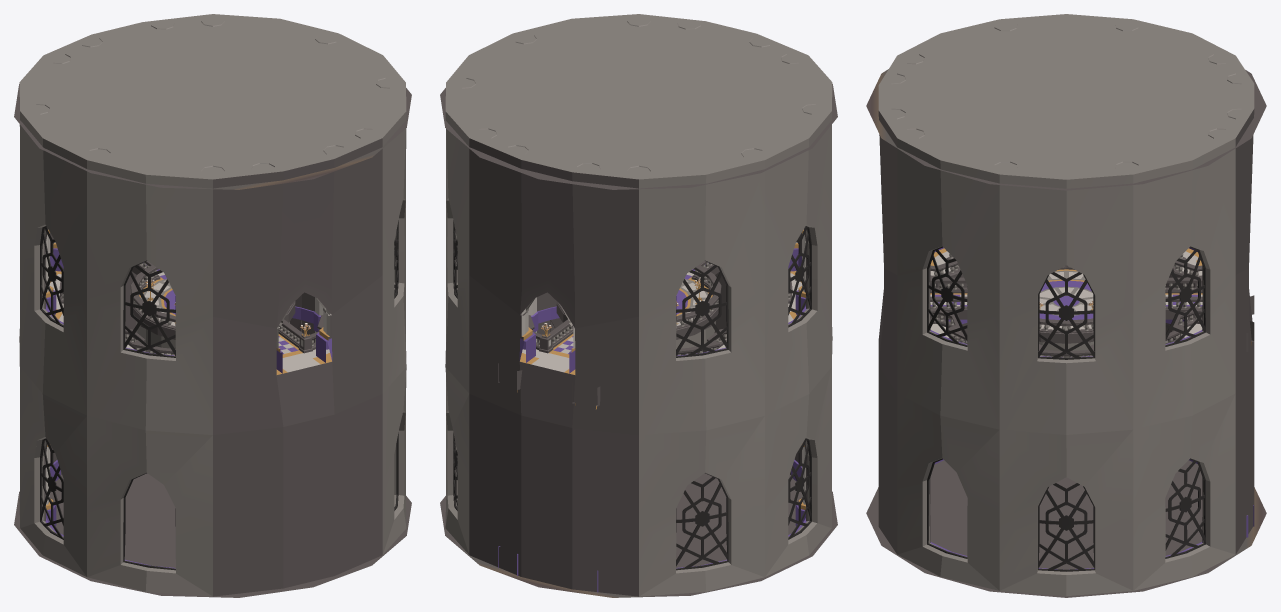
File: harazuelDio.fbx
3 renders of one model, left to right at view 1: azimuth 30°, elevation 25°; view 2: azimuth 150°, elevation 25°; view 3: azimuth 270°, elevation 25°, orthographic.
Visible parts, largest first — view 1: harazuelDio_blocker, harazuelDio_basefloor, harazuelDio_back, harazuelDio_lower, harazuelDio_ground, harazuelDio_main; view 2: harazuelDio_blocker, harazuelDio_lower, harazuelDio_basefloor, harazuelDio_main, harazuelDio_ground, harazuelDio_back; view 3: harazuelDio_blocker, harazuelDio_basefloor, harazuelDio_lower, harazuelDio_back, harazuelDio_ground, harazuelDio_main.
Part boxes in pixels (box(x1,y1,x2,y2)): harazuelDio_blocker: box(19, 14, 406, 596); harazuelDio_basefloor: box(14, 84, 411, 597); harazuelDio_back: box(34, 78, 405, 374); harazuelDio_lower: box(34, 271, 405, 573); harazuelDio_ground: box(130, 261, 312, 354); harazuelDio_main: box(36, 21, 336, 321); harazuelDio_blocker: box(445, 14, 832, 596); harazuelDio_lower: box(446, 271, 817, 592); harazuelDio_basefloor: box(440, 84, 837, 597); harazuelDio_main: box(446, 78, 762, 374); harazuelDio_ground: box(539, 261, 721, 354); harazuelDio_back: box(515, 21, 817, 331); harazuelDio_blocker: box(878, 14, 1254, 596); harazuelDio_basefloor: box(866, 69, 1266, 597); harazuelDio_lower: box(922, 274, 1254, 574); harazuelDio_back: box(891, 24, 1095, 363); harazuelDio_ground: box(930, 265, 1202, 357); harazuelDio_main: box(1089, 25, 1241, 356).
Size of the model in its own units: 37.33 by 42.9 by 37.33.
